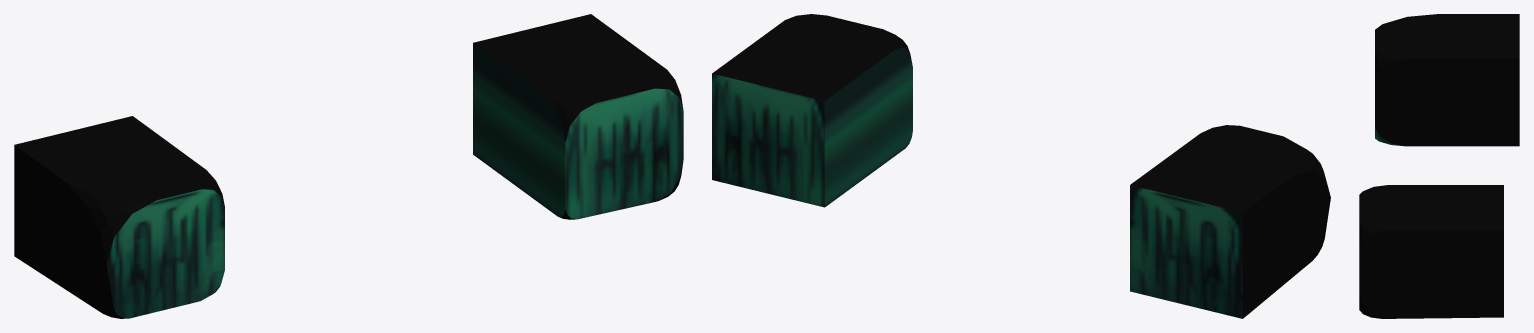
File: Throne_Bricks.fbx
The picture shows the model from 3 angles, left to right: view 1: azimuth 30°, elevation 25°; view 2: azimuth 150°, elevation 25°; view 3: azimuth 270°, elevation 25°; orthographic projection. The views are drawn at different scales.
Parts seen in each view (by area): view 1: Extra_Bricks.002, Extra_Bricks; view 2: Extra_Bricks.002, Extra_Bricks; view 3: Extra_Bricks.002, Extra_Bricks.
Part boxes in pixels (x1,y1,x2,y2): Extra_Bricks.002: (473,14,683,219); Extra_Bricks: (14,116,224,318); Extra_Bricks.002: (712,14,912,207); Extra_Bricks: (1130,125,1330,318); Extra_Bricks.002: (1359,185,1503,318); Extra_Bricks: (1375,14,1519,146).
Bounding box in the file's own units: 191 × 36.49 × 59.79.
Materials: 2 (1 with a texture image).
